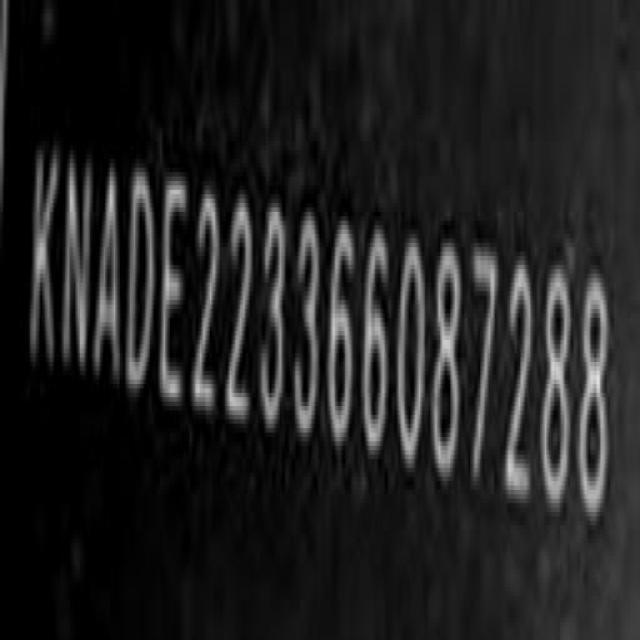0: (397, 233, 429, 476)
2: (505, 251, 537, 513), (193, 174, 224, 434), (224, 181, 254, 436)
3: (258, 195, 288, 444), (294, 203, 324, 448)
6: (326, 211, 360, 453), (362, 217, 392, 463)
7: (466, 236, 498, 505)
8: (580, 271, 613, 528), (542, 262, 575, 518), (432, 230, 462, 487)
A: (94, 154, 125, 396)
D: (125, 156, 159, 407)
E: (158, 168, 190, 420)
K: (30, 147, 60, 374)
N: (58, 138, 99, 390)
